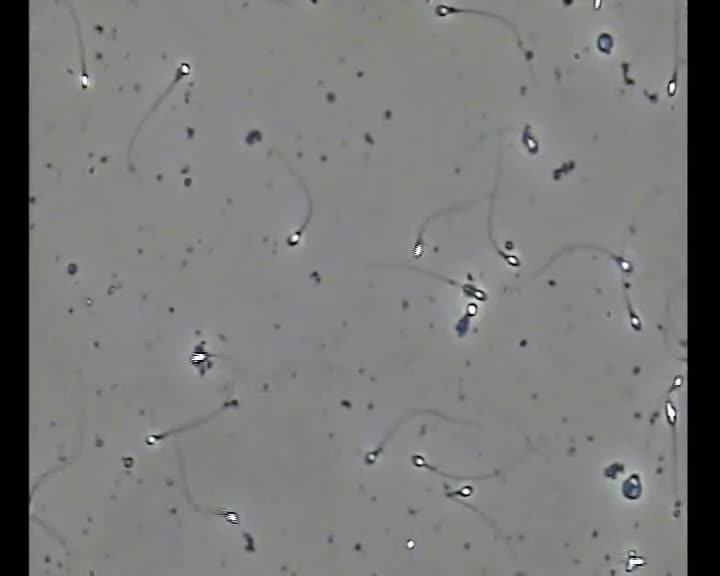spermhead: (621, 473, 641, 499), (521, 124, 538, 154), (624, 550, 646, 573), (462, 283, 487, 301), (596, 32, 613, 54), (603, 462, 624, 479), (664, 399, 677, 425), (665, 70, 677, 97), (433, 3, 456, 17), (455, 314, 469, 336), (453, 484, 473, 498), (176, 60, 191, 77), (617, 257, 632, 274), (503, 253, 519, 268), (190, 350, 207, 364), (411, 453, 426, 468), (287, 230, 301, 246), (78, 72, 90, 90), (630, 311, 641, 330), (465, 302, 478, 317), (224, 511, 239, 524), (365, 449, 378, 463), (121, 456, 134, 470), (413, 240, 423, 258), (145, 434, 160, 446), (671, 374, 683, 389), (30, 481, 40, 498), (503, 239, 515, 251), (223, 399, 239, 407), (86, 296, 94, 308), (407, 538, 415, 549), (593, 0, 601, 10)
